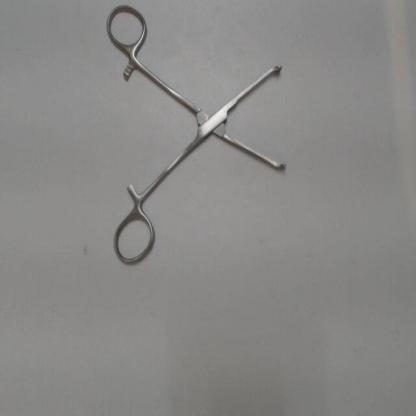Allis Tissue Forceps: (104, 1, 290, 270)
